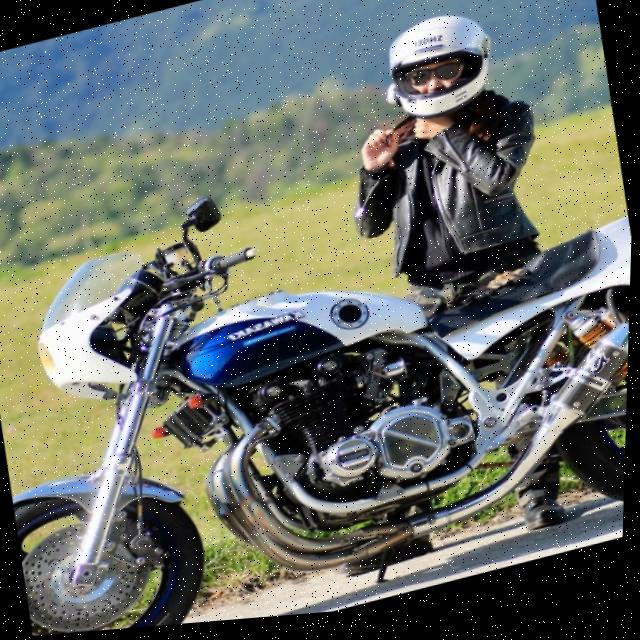helmet: (374, 7, 509, 139)
